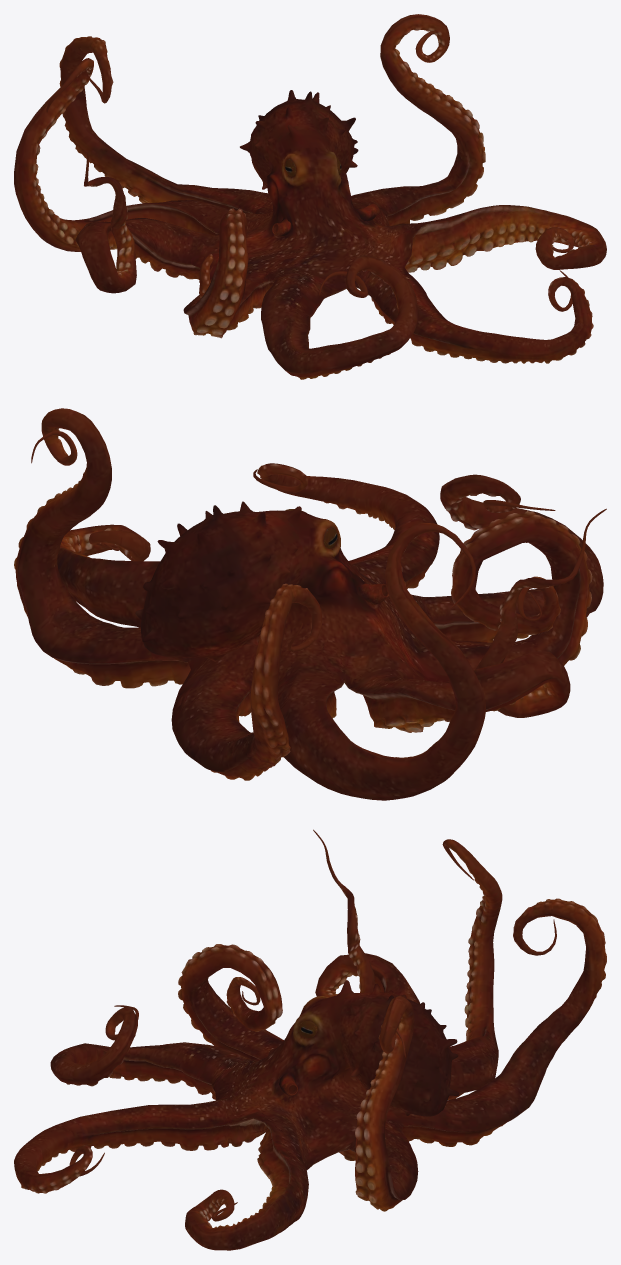
File: octopus.glb
The picture shows the model from 3 angles, top to bottom: view 1: azimuth 30°, elevation 25°; view 2: azimuth 150°, elevation 25°; view 3: azimuth 270°, elevation 25°; orthographic projection. The views are drawn at different scales.
Visible parts, largest first — view 1: octopus.1_1; view 2: octopus.1_1; view 3: octopus.1_1.
Boxes of the visible parts, x1=… form: octopus.1_1: x1=14, y1=14, x2=606, y2=379; octopus.1_1: x1=14, y1=408, x2=606, y2=800; octopus.1_1: x1=14, y1=829, x2=606, y2=1250.
Size of the model in its own units: 0.0778 by 0.0334 by 0.0828.
1 material, 1 textured.
